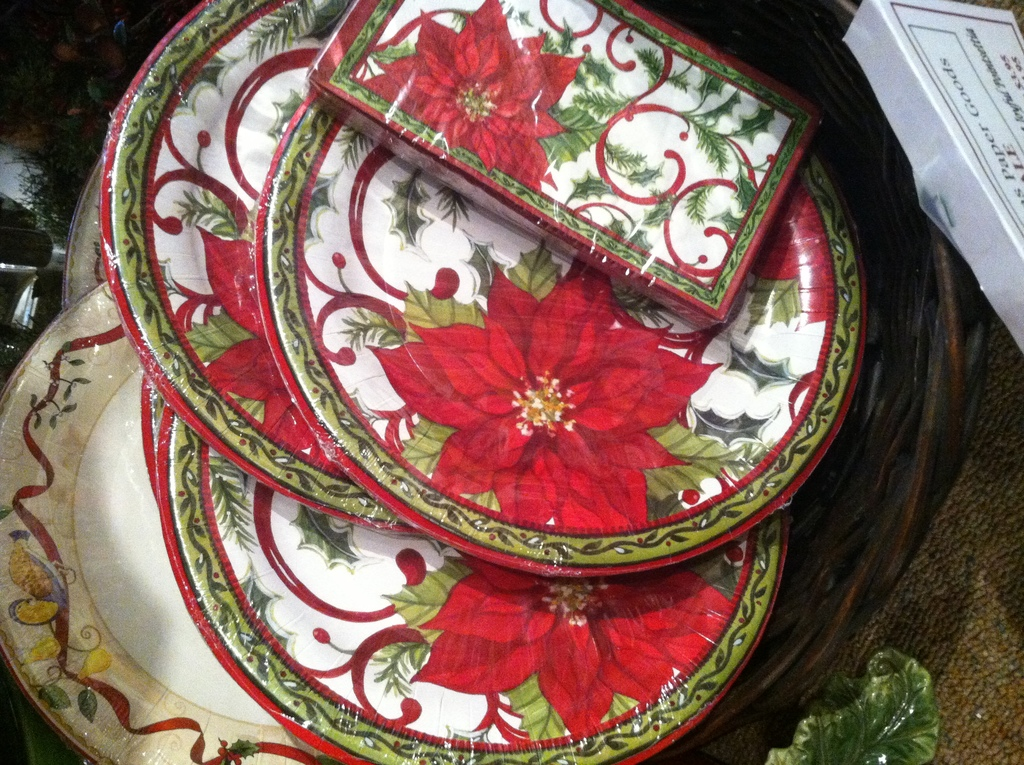plate: (248, 93, 862, 578)
